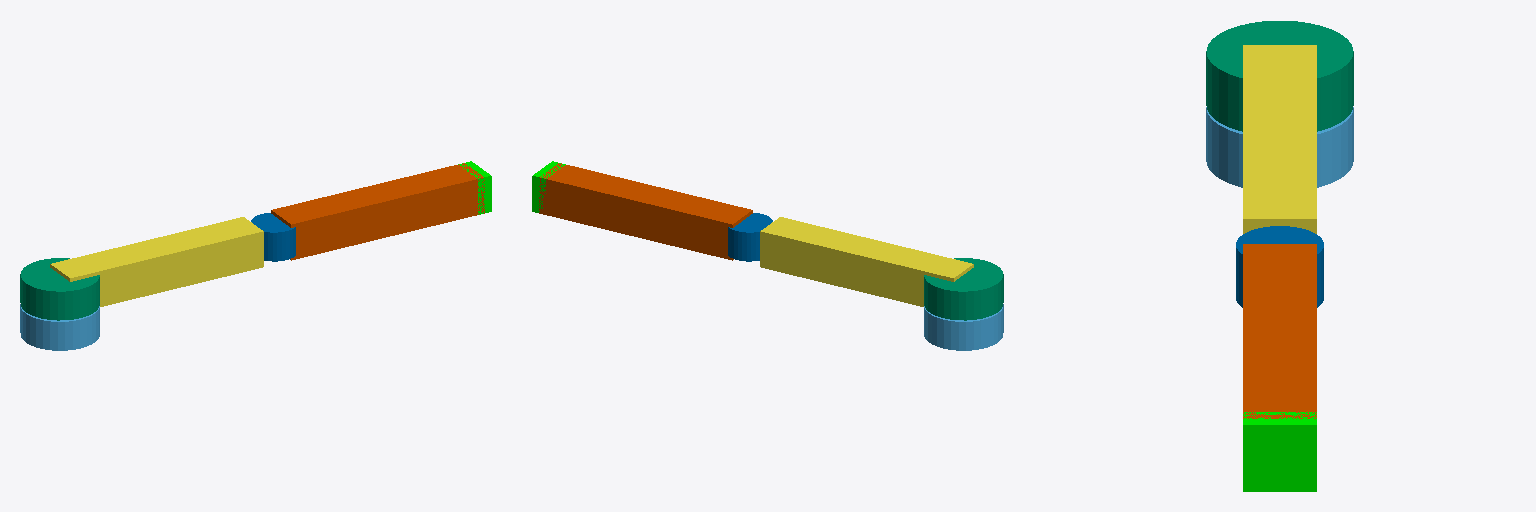
robot.urdf — reacher:
<?xml version="1.0" ?>
<robot name="reacher">
  <link name="world"/>
  <joint name="robot_to_world" type="fixed">
    <parent link="world"/>
    <child link="reacher_link0"/>
    <origin rpy="0 0 0" xyz="0 0 0.01"/>
    <dynamics damping="1.0"/>
  </joint>
  <link name="reacher_link0">
    <visual>
      <geometry>
        <cylinder length="0.02" radius="0.025"/>
      </geometry>
    </visual>
    <collision>
      <geometry>
        <cylinder length="0.02" radius="0.025"/>
      </geometry>
    </collision>
    <inertial>
      <origin rpy="0 0 0" xyz="0 0 0"/>
      <mass value="1"/>
      <inertia ixx="0.00018958" ixy="0.0" ixz="0.0" iyy="0.00018958" iyz="0.0" izz="0.00005208"/>
    </inertial>
  </link>
  <link name="reacher_link1">
    <visual>
      <geometry>
        <cylinder length="0.02" radius="0.025"/>
      </geometry>
    </visual>
    <collision>
      <geometry>
        <cylinder length="0.02" radius="0.025"/>
      </geometry>
    </collision>
    <inertial>
      <origin rpy="0 0 0" xyz="0 0 0"/>
      <mass value="1"/>
      <inertia ixx="0.00018958" ixy="0.0" ixz="0.0" iyy="0.00018958" iyz="0.0" izz="0.00005208"/>
    </inertial>
  </link>
  <joint name="reacher_joint1" type="revolute">
    <origin rpy="0 0 0" xyz="0 0 0.021"/>
    <parent link="reacher_link0"/>
    <child link="reacher_link1"/>
    <axis xyz="0 0 1"/>
    <limit effort="10" lower="-30.14159" upper="30.14159" velocity="10.0"/>
    <dynamics damping="1.0"/>
  </joint>
  <link name="reacher_link2">
    <visual>
      <geometry>
        <box size="0.14 0.025 0.025"/>
      </geometry>
    </visual>
    <collision>
      <geometry>
        <box size="0.14 0.025 0.025"/>
      </geometry>
    </collision>
    <inertial>
      <origin rpy="0 0 0" xyz="0 0 0"/>
      <mass value="1"/>
      <inertia ixx="0.00010417" ixy="0.0" ixz="0.0" iyy="0.00168542" iyz="0.0" izz="0.00168542"/>
    </inertial>
  </link>
  <joint name="reacher_joint2" type="fixed">
    <origin rpy="0 0 0" xyz="0.07 0 0"/>
    <parent link="reacher_link1"/>
    <child link="reacher_link2"/>
    <axis xyz="0 0 1"/>
    <dynamics damping="1.0"/>
  </joint>
  <link name="reacher_link3">
    <visual>
      <geometry>
        <cylinder length="0.02" radius="0.015"/>
      </geometry>
    </visual>
    <collision>
      <geometry>
        <cylinder length="0.02" radius="0.015"/>
      </geometry>
    </collision>
    <inertial>
      <origin rpy="0 0 0" xyz="0 0 0"/>
      <mass value="1"/>
      <inertia ixx="0.00005833" ixy="0.0" ixz="0.0" iyy="0.00005833" iyz="0.0" izz="0.00000833"/>
    </inertial>
  </link>
  <joint name="reacher_joint3" type="revolute">
    <origin rpy="0 0 0" xyz="0.085 0 0"/>
    <parent link="reacher_link2"/>
    <child link="reacher_link3"/>
    <axis xyz="0 0 1"/>
    <limit effort="10" lower="-3.14159" upper="3.14159" velocity="10.0"/>
    <dynamics damping="1.0"/>
  </joint>
  <link name="reacher_link4">
    <visual>
      <geometry>
        <box size="0.14 0.025 0.025"/>
      </geometry>
    </visual>
    <collision>
      <geometry>
        <box size="0.14 0.025 0.025"/>
      </geometry>
    </collision>
    <inertial>
      <origin rpy="0 0 0" xyz="0 0 0"/>
      <mass value="1"/>
      <inertia ixx="0.00010417" ixy="0.0" ixz="0.0" iyy="0.00168542" iyz="0.0" izz="0.00168542"/>
    </inertial>
  </link>
  <joint name="reacher_joint4" type="fixed">
    <origin rpy="0 0 0" xyz="0.075 0 0"/>
    <parent link="reacher_link3"/>
    <child link="reacher_link4"/>
    <axis xyz="0 0 1"/>
    <dynamics damping="1.0"/>
  </joint>
  <link name="reacher_link5">
    <visual>
      <geometry>
        <box size="0.01 0.025 0.025"/>
      </geometry>
      <material name="green">
        <color rgba="0 1 0 1"/>
      </material>
    </visual>
    <collision>
      <geometry>
        <box size="0.01 0.025 0.025"/>
      </geometry>
    </collision>
    <inertial>
      <origin rpy="0 0 0" xyz="0 0 0"/>
      <mass value="1"/>
      <inertia ixx="0.00010417" ixy="0.0" ixz="0.0" iyy="0.00006042" iyz="0.0" izz="0.00006042"/>
    </inertial>
  </link>
  <joint name="reacher_joint5" type="fixed">
    <origin rpy="0 0 0" xyz="0.07 0 0"/>
    <parent link="reacher_link4"/>
    <child link="reacher_link5"/>
    <axis xyz="0 0 1"/>
    <dynamics damping="1.0"/>
  </joint>
</robot>

--- What the picture shows (computed from the rendered views, not written in the file) ---
Views: 3 orthographic renders of the robot side by side, from view 1: azimuth 30°, elevation 25°; view 2: azimuth 150°, elevation 25°; view 3: azimuth 270°, elevation 25°.
Robot: reacher — 7 links, 6 joints (2 revolute, 4 fixed); root link world; default pose: every joint at zero.
Links seen in each view (by area): view 1: reacher_link4, reacher_link2, reacher_link1, reacher_link0, reacher_link3, reacher_link5; view 2: reacher_link4, reacher_link2, reacher_link1, reacher_link0, reacher_link3, reacher_link5; view 3: reacher_link2, reacher_link4, reacher_link1, reacher_link5, reacher_link0, reacher_link3.
Link boxes in pixels (bbox=[...]): reacher_link4: bbox=[271, 163, 484, 260]; reacher_link2: bbox=[50, 217, 263, 306]; reacher_link1: bbox=[20, 258, 99, 320]; reacher_link0: bbox=[20, 304, 99, 350]; reacher_link3: bbox=[251, 213, 295, 261]; reacher_link5: bbox=[458, 161, 491, 214]; reacher_link4: bbox=[539, 163, 752, 260]; reacher_link2: bbox=[760, 217, 973, 306]; reacher_link1: bbox=[924, 258, 1003, 320]; reacher_link0: bbox=[924, 304, 1003, 350]; reacher_link3: bbox=[728, 213, 772, 261]; reacher_link5: bbox=[532, 161, 565, 212]; reacher_link2: bbox=[1243, 45, 1316, 233]; reacher_link4: bbox=[1243, 244, 1316, 418]; reacher_link1: bbox=[1206, 21, 1353, 131]; reacher_link5: bbox=[1243, 412, 1316, 491]; reacher_link0: bbox=[1206, 107, 1353, 187]; reacher_link3: bbox=[1236, 226, 1323, 307].
Size in the robot's own frame: 0.33 by 0.05 by 0.0435 metres.
Geometry: primitives only (box / cylinder / sphere), no mesh files.